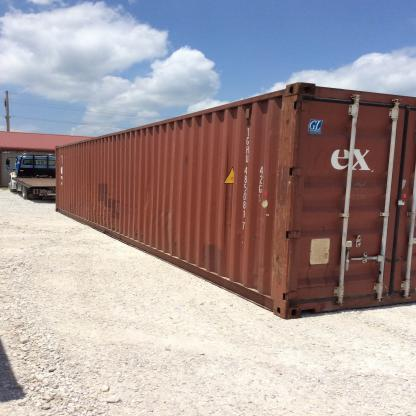Damage: (281, 79, 321, 134), (277, 150, 295, 234), (270, 247, 299, 288)
